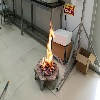fire: (41, 20, 56, 71)
